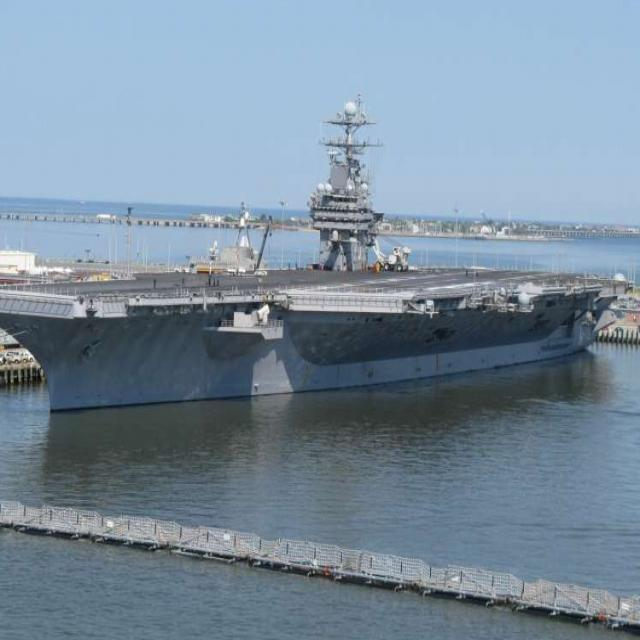Portanaves: (1, 98, 637, 421)
